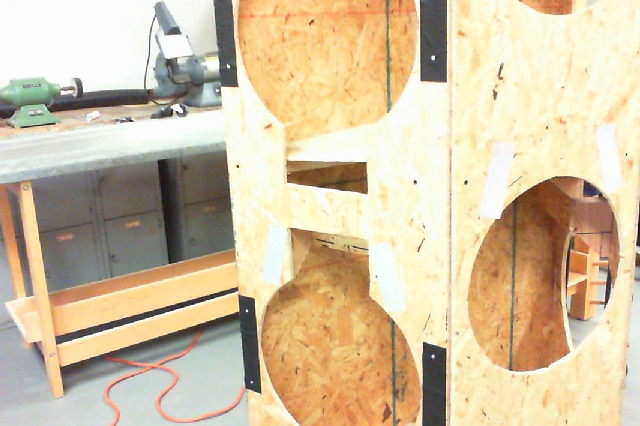Tape: (478, 141, 514, 222), (367, 243, 407, 312), (595, 120, 623, 192), (264, 222, 288, 287)
